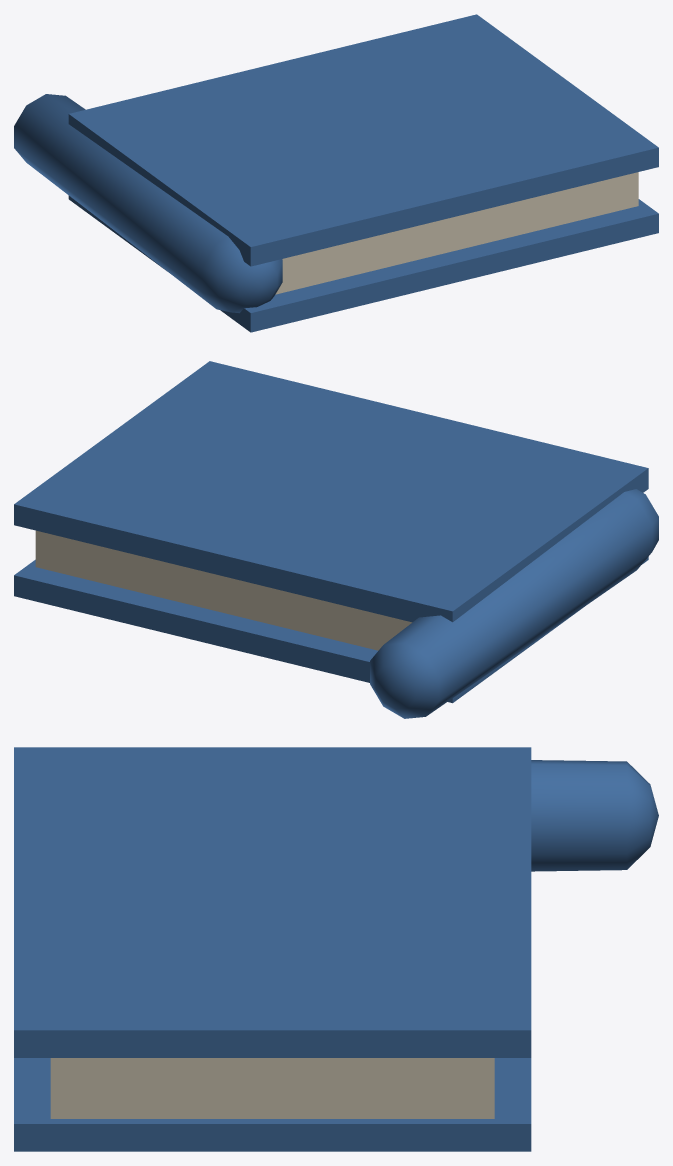
The model's file is item_book_blue.glb.
3 renders of one model, top to bottom at view 1: azimuth 30°, elevation 25°; view 2: azimuth 150°, elevation 25°; view 3: azimuth 270°, elevation 25°, orthographic. The views are drawn at different scales.
Parts seen in each view (by area): view 1: item_book_blue; view 2: item_book_blue; view 3: item_book_blue.
Boxes of the visible parts, bbox=[...] form: item_book_blue: bbox=[14, 14, 658, 332]; item_book_blue: bbox=[14, 361, 658, 718]; item_book_blue: bbox=[14, 747, 658, 1151].
Size of the model in its own units: 0.117 by 0.022 by 0.106.
